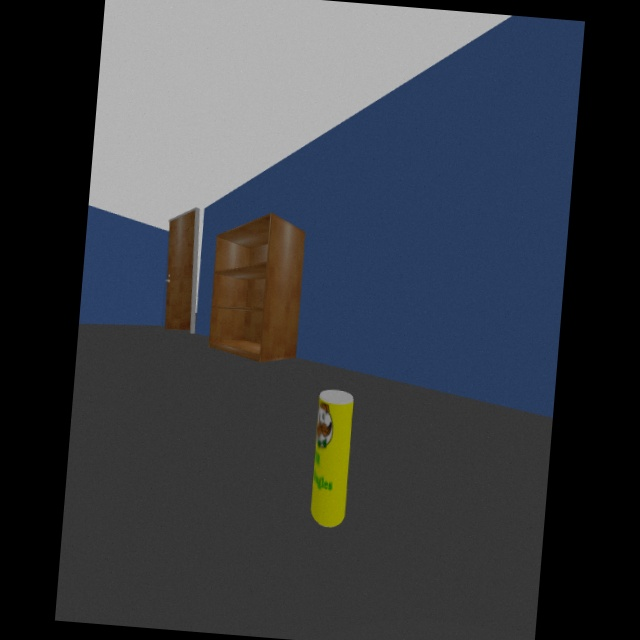chipsdose_gelb: (310, 389, 354, 529)
